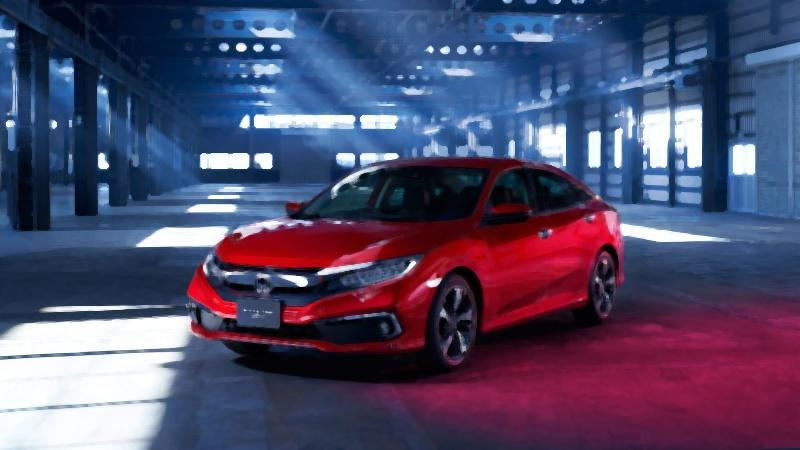Car hood: (208, 217, 465, 270)
Fender - -F-L-: (422, 217, 495, 337)
Fender - -R-L-: (589, 197, 623, 288)
Front bumper: (187, 267, 428, 354)
Headlight - -L-: (319, 252, 424, 293)
Headlight - -R-: (202, 240, 217, 283)
Passenger-s door - -F-L-: (476, 153, 556, 336)
Passenger-s door - -R-L-: (532, 157, 604, 331)
Side bumper - -L-: (482, 287, 588, 345)
Side mirror - -L-: (474, 200, 532, 231)
